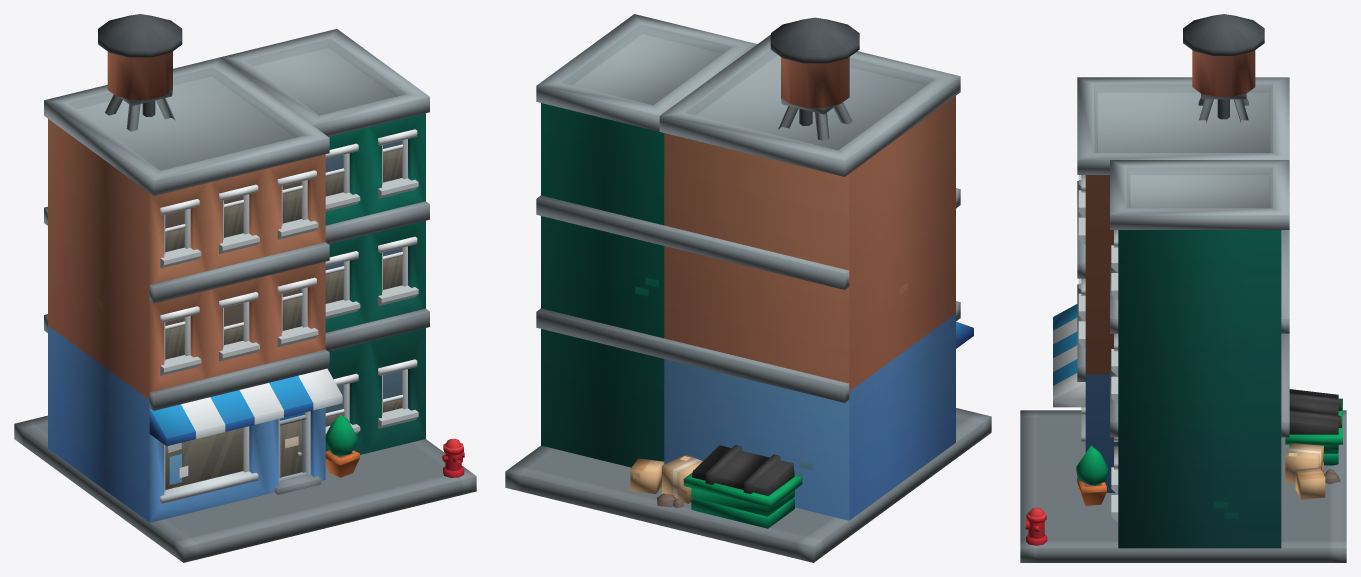
The model's file is building_G.glb.
The picture shows the model from 3 angles, left to right: view 1: azimuth 30°, elevation 25°; view 2: azimuth 150°, elevation 25°; view 3: azimuth 270°, elevation 25°; orthographic projection. The views are drawn at different scales.
Visible parts, largest first — view 1: building_G; view 2: building_G; view 3: building_G.
Part boxes in pixels (x1,y1,x2,y2): building_G: [14, 14, 476, 562]; building_G: [505, 14, 991, 562]; building_G: [1020, 14, 1346, 562].
Bounding box in the file's own units: 2.01 × 2.98 × 2.
1 material, 1 textured.
